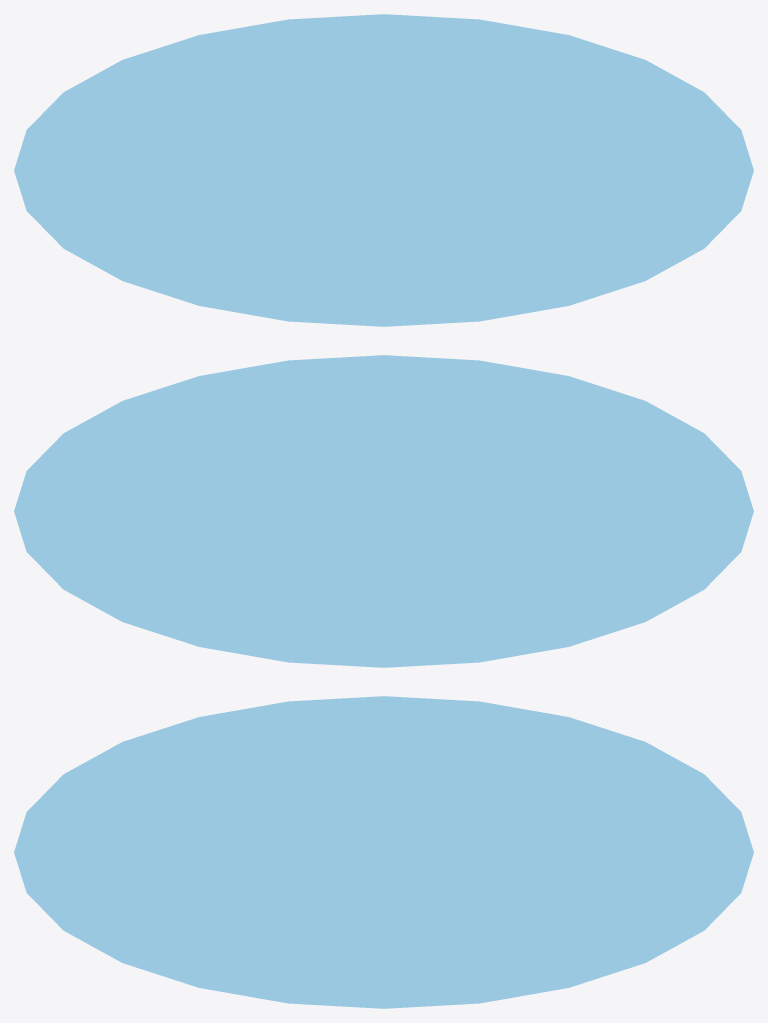
File: Water_Plane_Circle_Small_01.fbx
The picture shows the model from 3 angles, top to bottom: view 1: azimuth 30°, elevation 25°; view 2: azimuth 150°, elevation 25°; view 3: azimuth 270°, elevation 25°; orthographic projection.
Parts seen in each view (by area): view 1: Water_Plane_Circle_Small_01; view 2: Water_Plane_Circle_Small_01; view 3: Water_Plane_Circle_Small_01.
Part boxes in pixels (<box>): Water_Plane_Circle_Small_01: <box>14,14,753,326</box>; Water_Plane_Circle_Small_01: <box>14,355,753,667</box>; Water_Plane_Circle_Small_01: <box>14,696,753,1008</box>.
Size of the model in its own units: 10000 by 0.00824 by 10000.
